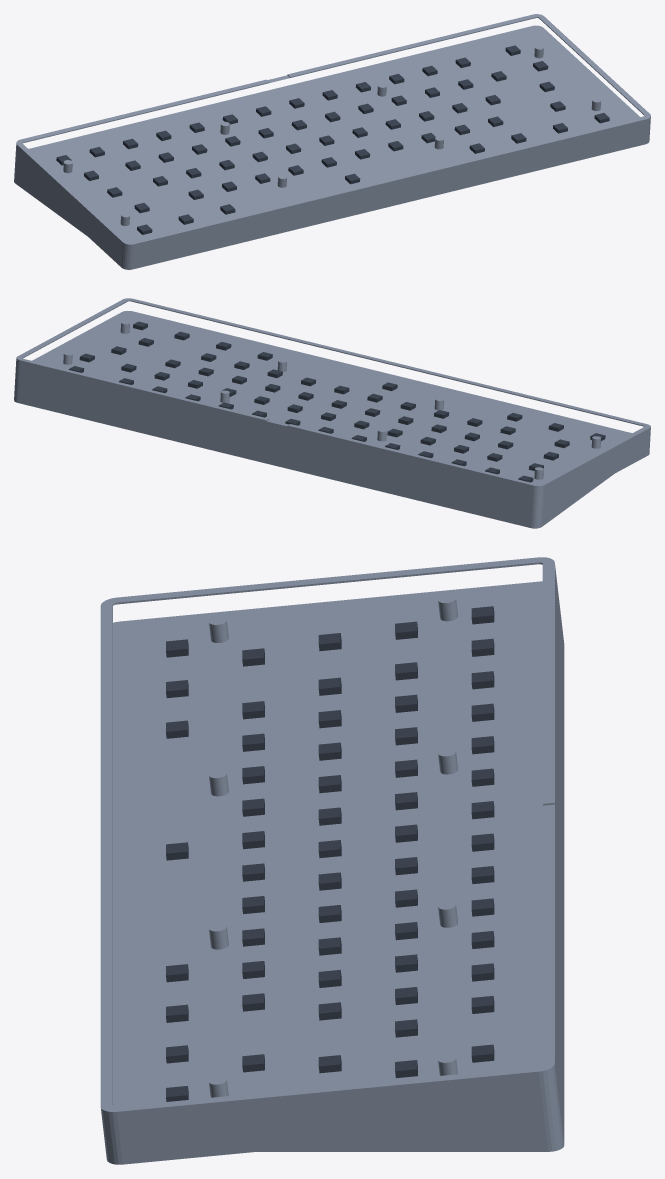
The model's file is reference-60.glb.
3 renders of one model, top to bottom at view 1: azimuth 30°, elevation 25°; view 2: azimuth 150°, elevation 25°; view 3: azimuth 270°, elevation 25°, orthographic. The views are drawn at different scales.
Visible parts, largest first — view 1: bottomCase/case-bottom, switches/switches, topCase/case-top; view 2: bottomCase/case-bottom, switches/switches, topCase/case-top; view 3: bottomCase/case-bottom, switches/switches, topCase/case-top.
Part boxes in pixels (x1,y1,x2,y2): bottomCase/case-bottom: (14, 14, 650, 262); switches/switches: (56, 45, 609, 234); topCase/case-top: (15, 134, 649, 269); bottomCase/case-bottom: (14, 298, 650, 528); switches/switches: (69, 321, 605, 482); topCase/case-top: (15, 374, 649, 513); bottomCase/case-bottom: (100, 557, 564, 1151); switches/switches: (166, 606, 494, 1101); topCase/case-top: (105, 594, 560, 1164).
Bounding box in the file's own units: 9887442 × 931073 × 3767380.
